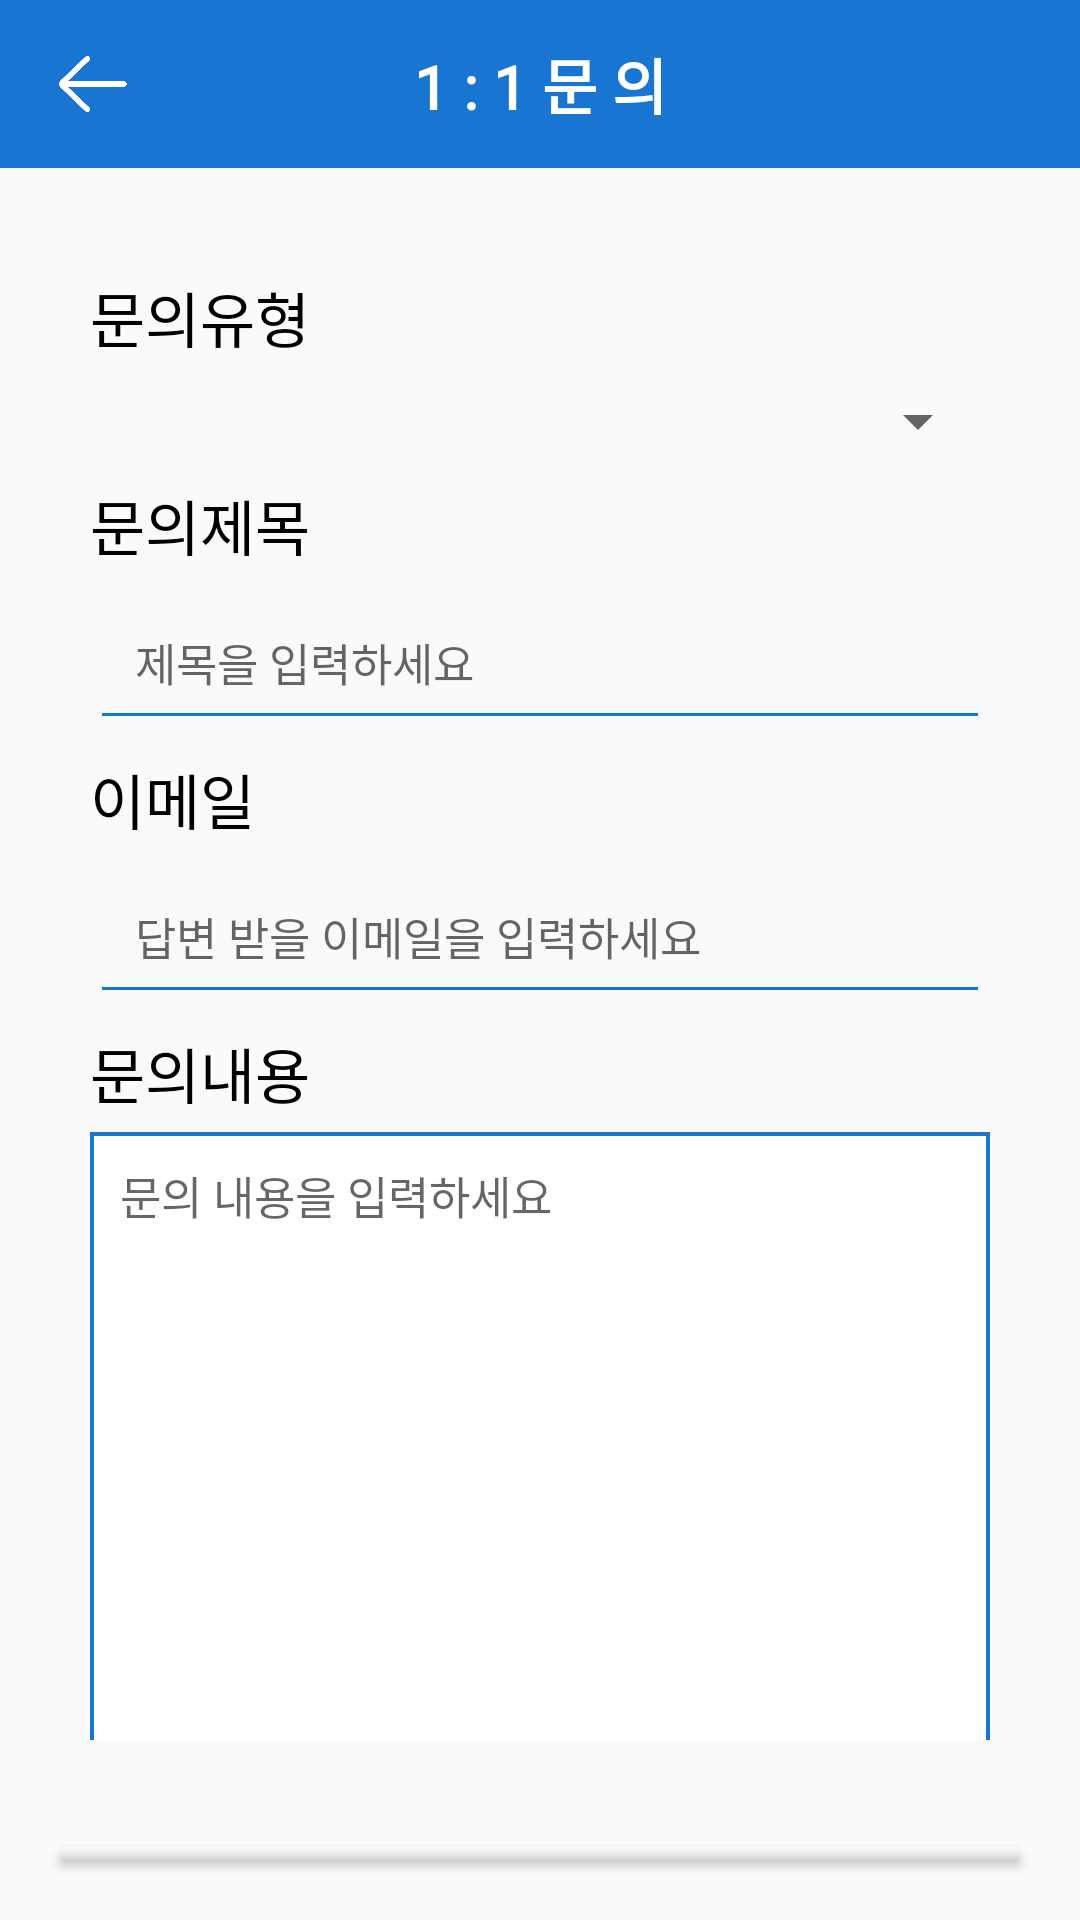

Screen size 1080px×1920px. Icon name, then its box in pixels as (x1, y1, x2, y2):
backbtn: (59, 56, 127, 112)
